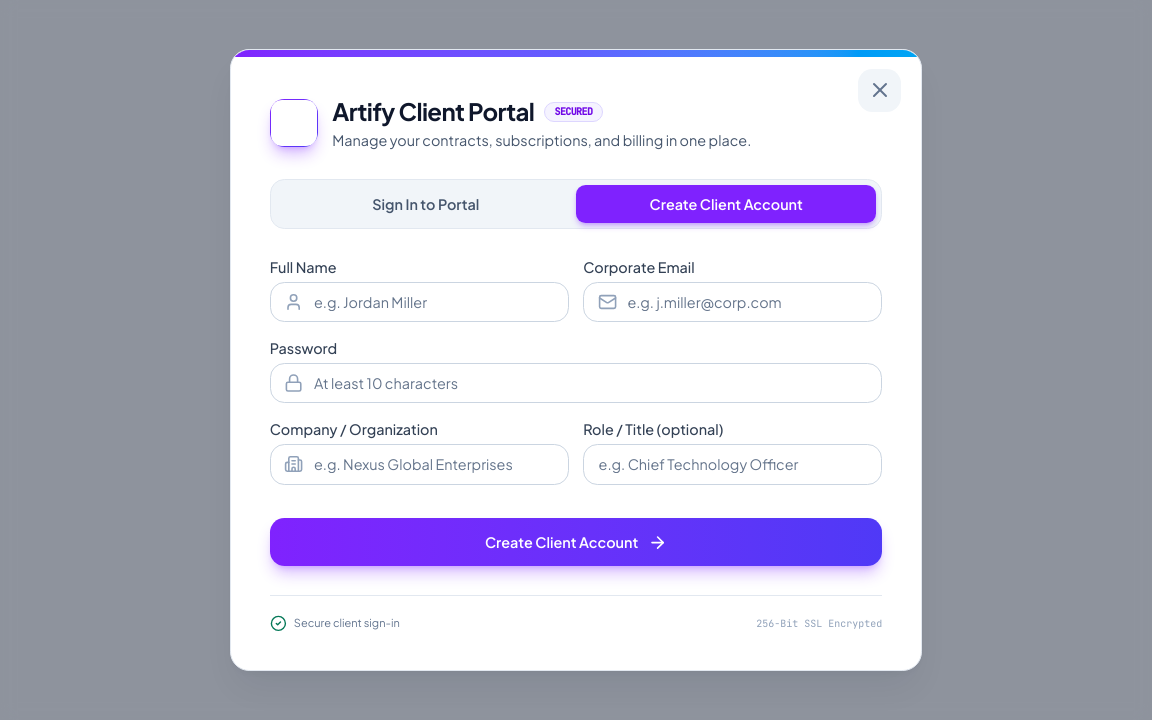
Test case: signup › rejects weak passwords and bad emails client-side
Type "Jordan Miller" into the field with id "signup-name-input". click: (419, 302)
box: x1=270 y1=282 x2=569 y2=322
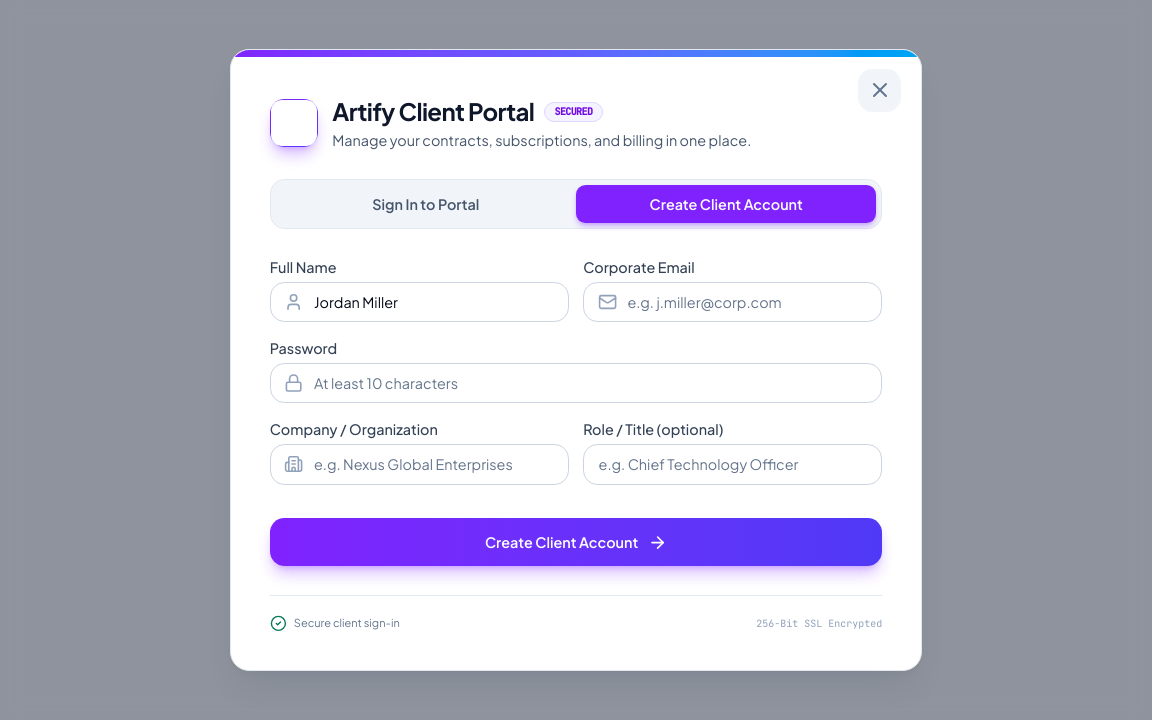
Type "not-an-email" into the field with id "signup-email-input". click: (733, 302)
box: x1=583 y1=282 x2=882 y2=322
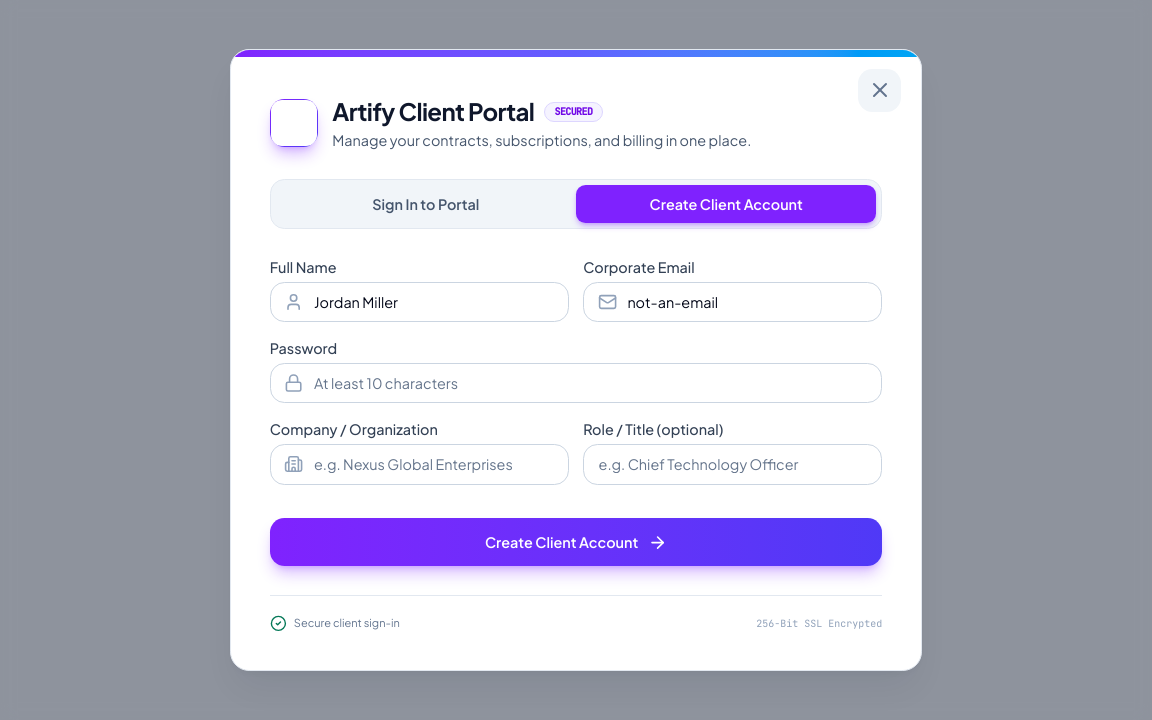
Type "x" into the password field with id "signup-password-input". click: (576, 383)
box: x1=270 y1=363 x2=882 y2=404
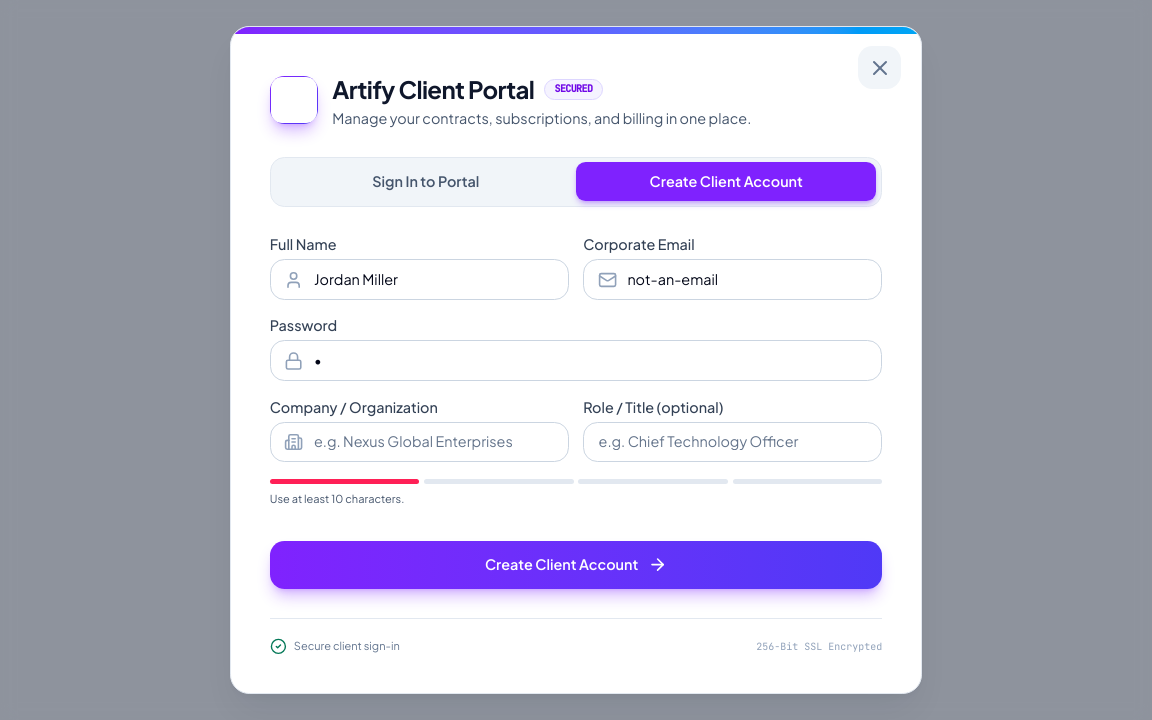
Type "Corp" into the field with id "signup-company-input". click: (419, 442)
box: x1=270 y1=422 x2=569 y2=462
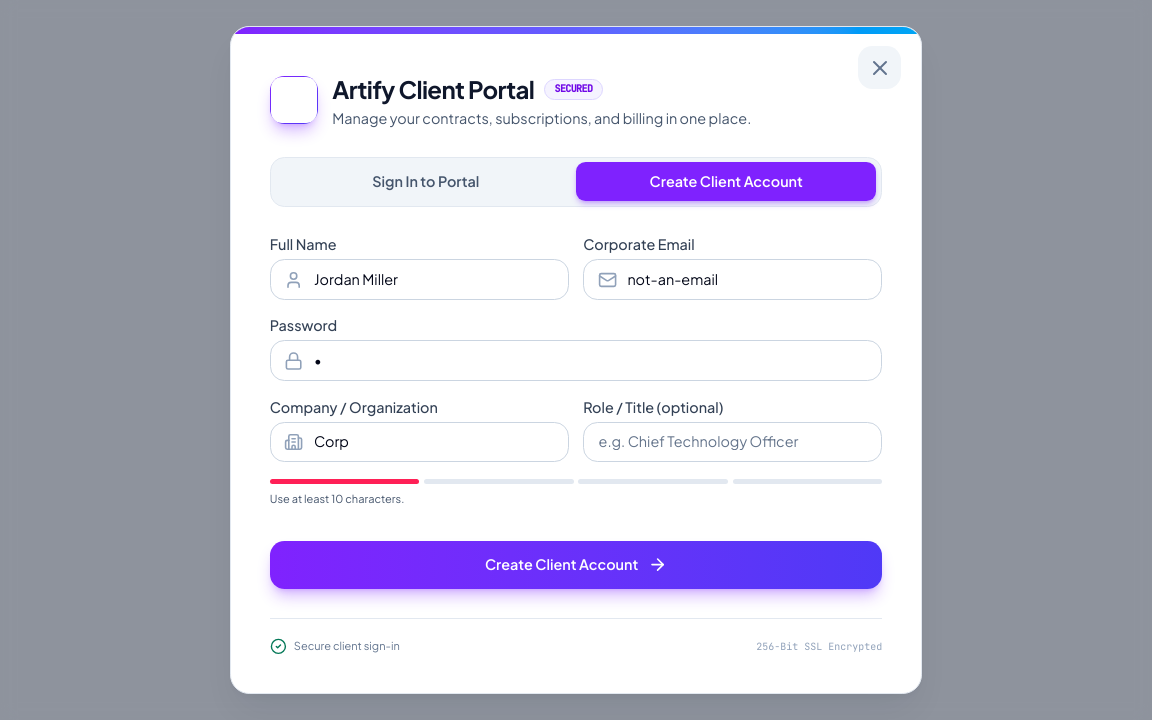
Submit the form with id "client-signup-form", box x1=270 y1=235 x2=882 y2=589
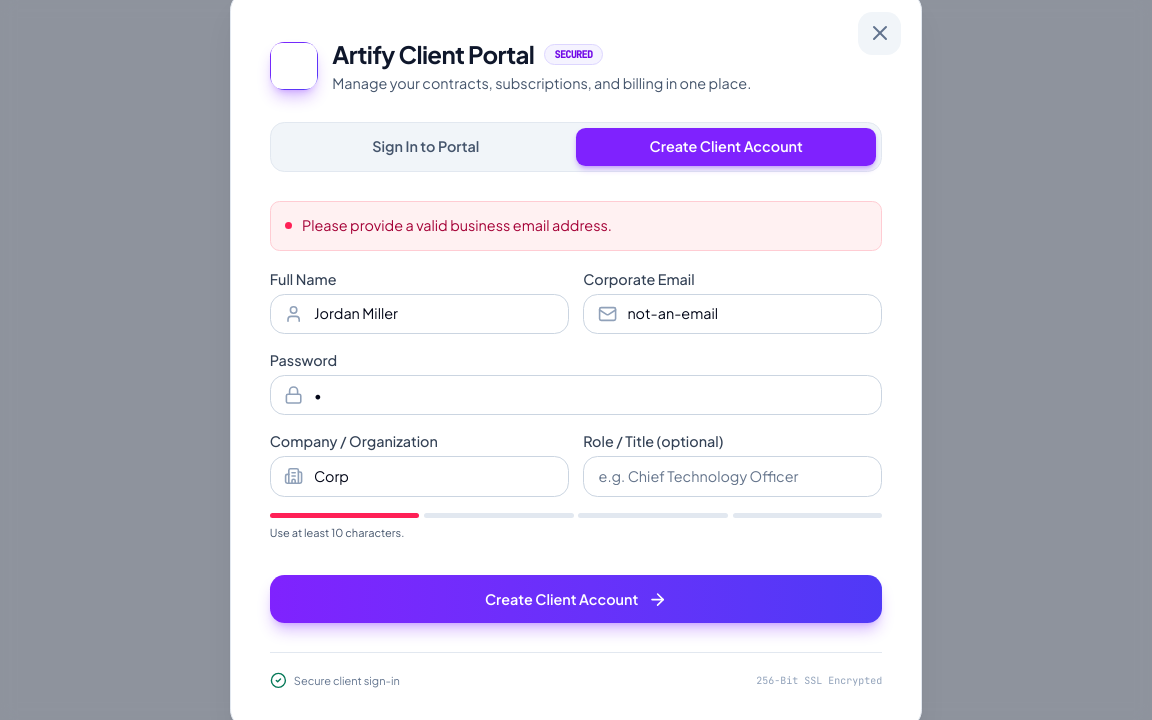
expect the text "Please provide a valid business email address." is shown: met, box x1=302 y1=216 x2=612 y2=235
